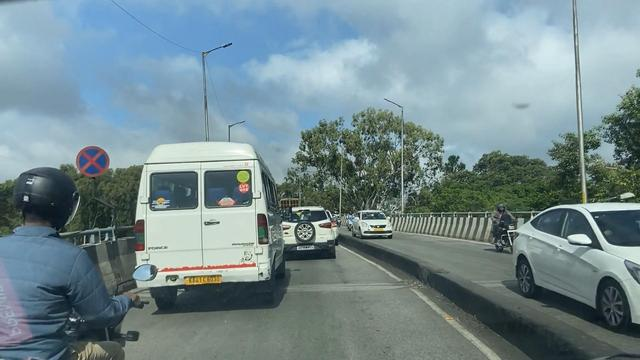HMV: (137, 146, 272, 302)
LMV: (283, 210, 329, 251)
SpeedBump: (292, 280, 392, 296)
